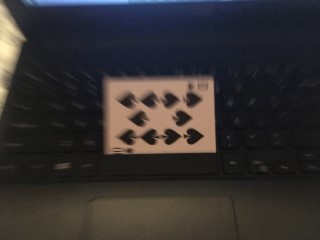TenOfSpades: (103, 77, 215, 153)
